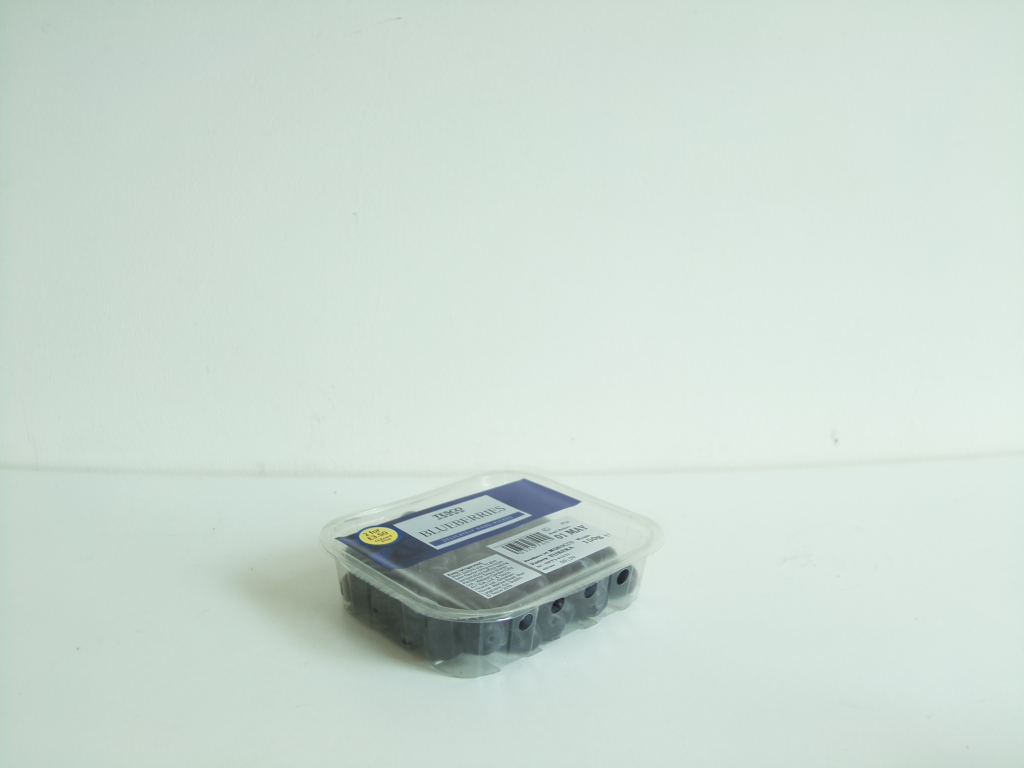soft-fruit: (322, 470, 661, 680)
